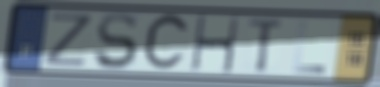C: (140, 11, 193, 75)
H: (189, 14, 242, 75)
L: (291, 19, 328, 75)
S: (92, 11, 140, 73)
T: (246, 17, 287, 75)
Z: (42, 11, 97, 69)
